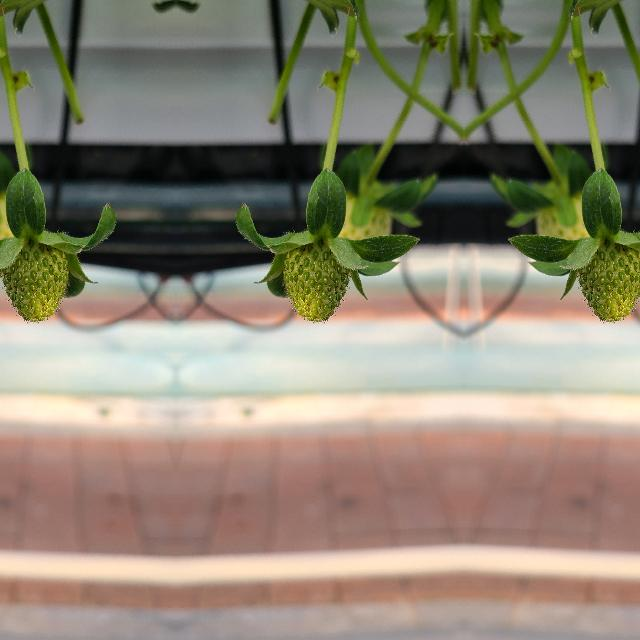Health_25: (1, 241, 66, 321), (284, 241, 348, 321), (577, 241, 640, 321)
